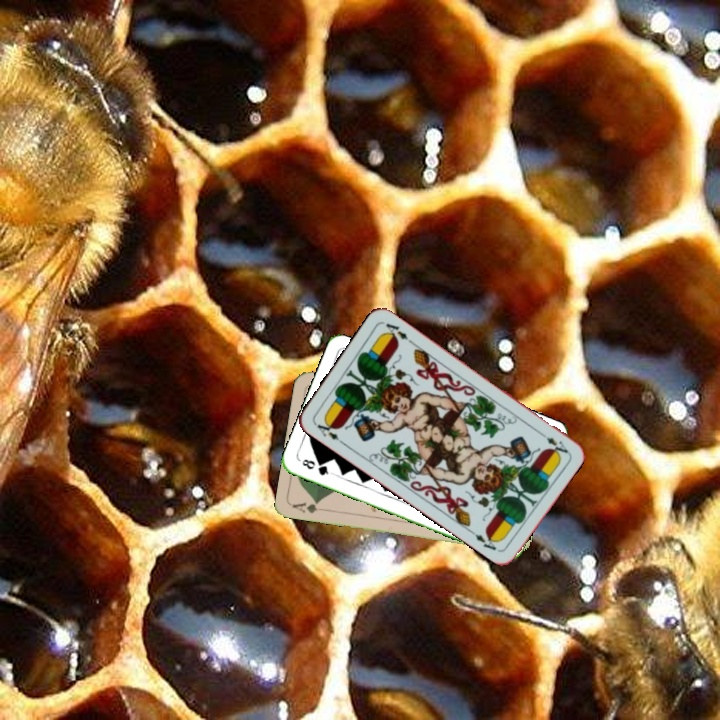EA: (311, 415, 347, 447), (535, 428, 571, 456)
G8: (298, 455, 335, 478)
GA: (289, 497, 321, 516)
